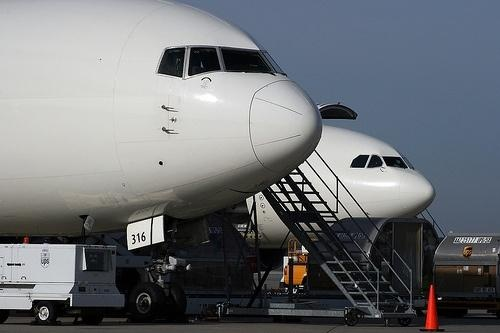aeroplane: (1, 1, 323, 322), (235, 125, 436, 249)
